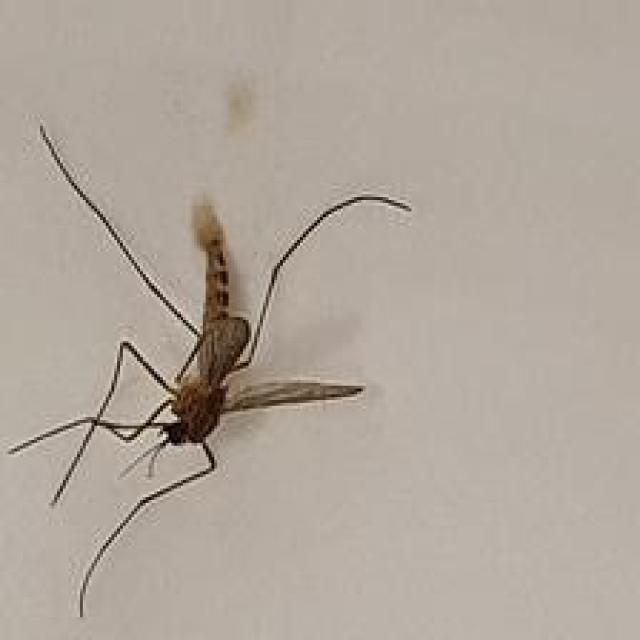Culex: (6, 119, 414, 618)
